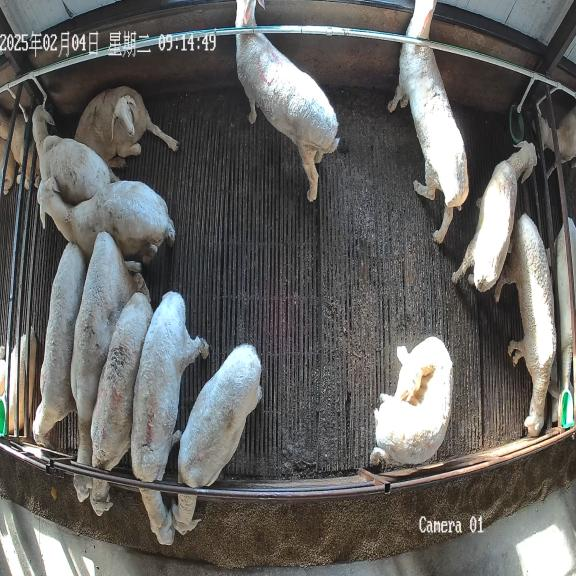drinking: (32, 106, 117, 204)
eating: (68, 232, 148, 502), (131, 291, 208, 545), (171, 344, 261, 534), (90, 293, 152, 516)
lying: (75, 86, 177, 168)
stand: (235, 0, 339, 201), (387, 0, 469, 243), (495, 214, 556, 436), (452, 143, 537, 292), (38, 177, 175, 264), (33, 243, 87, 446), (370, 336, 453, 465)
